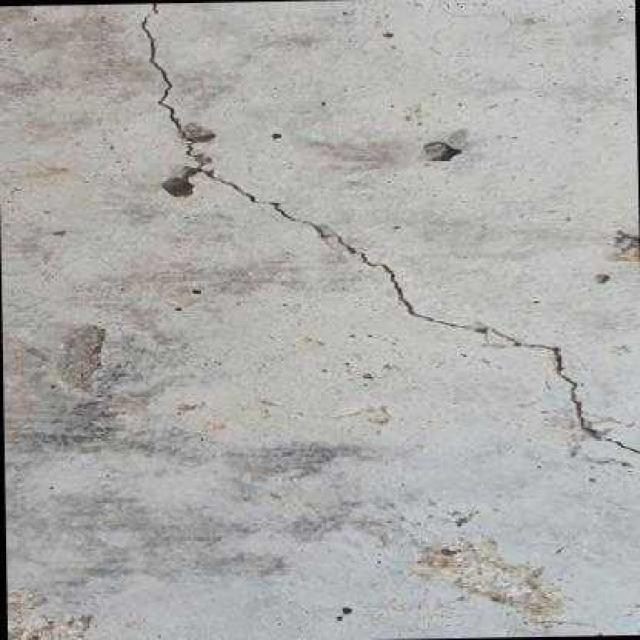D00: (334, 235, 640, 453), (138, 3, 340, 255)
